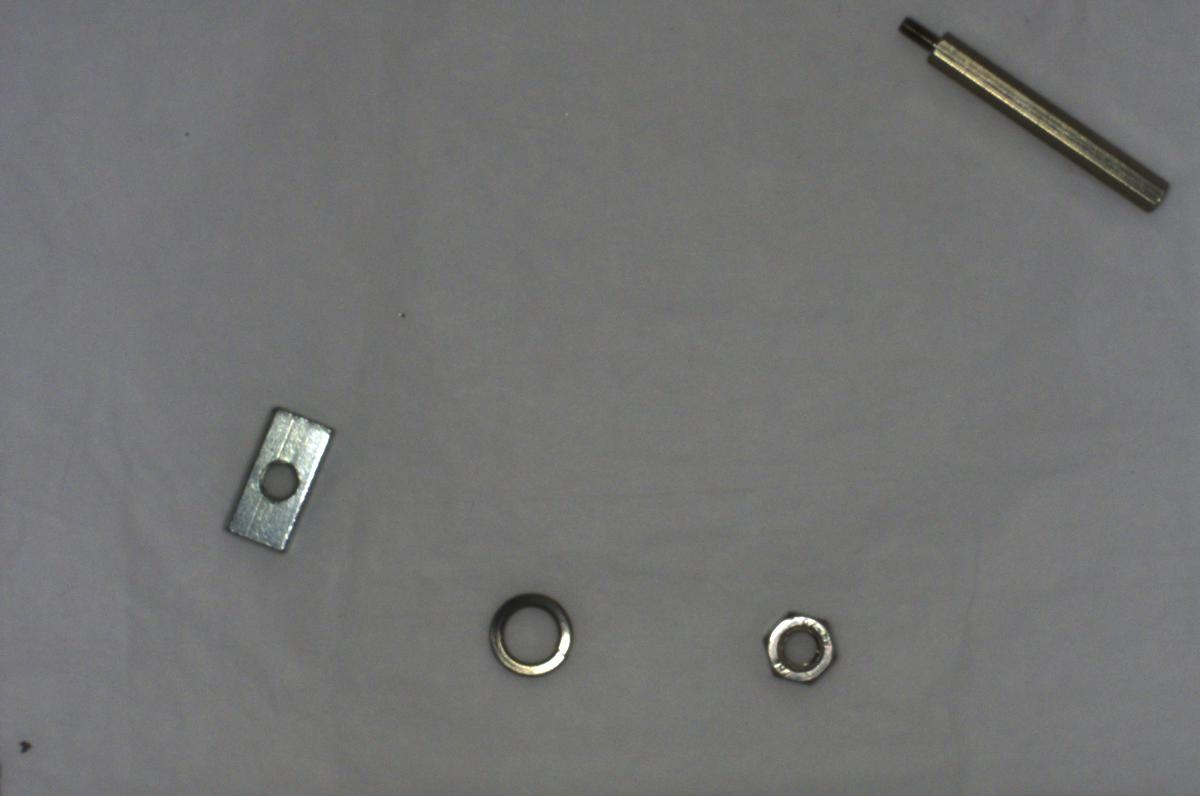Hexagon nut: (752, 601, 842, 690)
Hexagonal steel column: (891, 14, 1174, 219)
Rectangular nut: (213, 400, 335, 561)
Spring washer: (477, 587, 581, 680)
